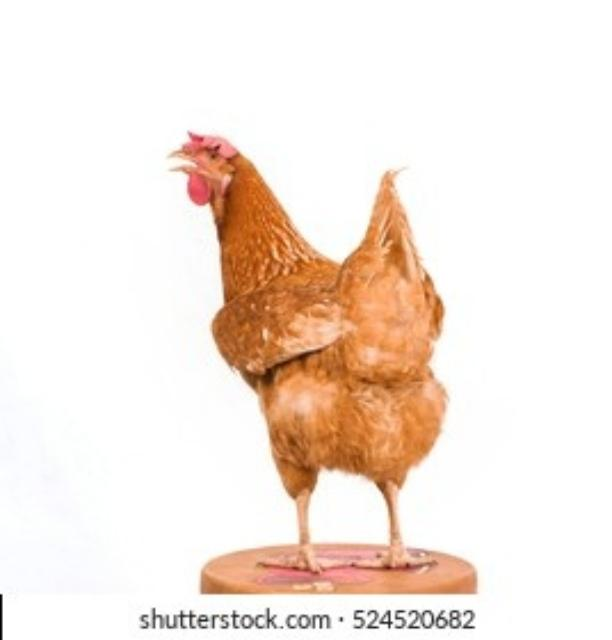Chicken: (165, 128, 452, 572)
